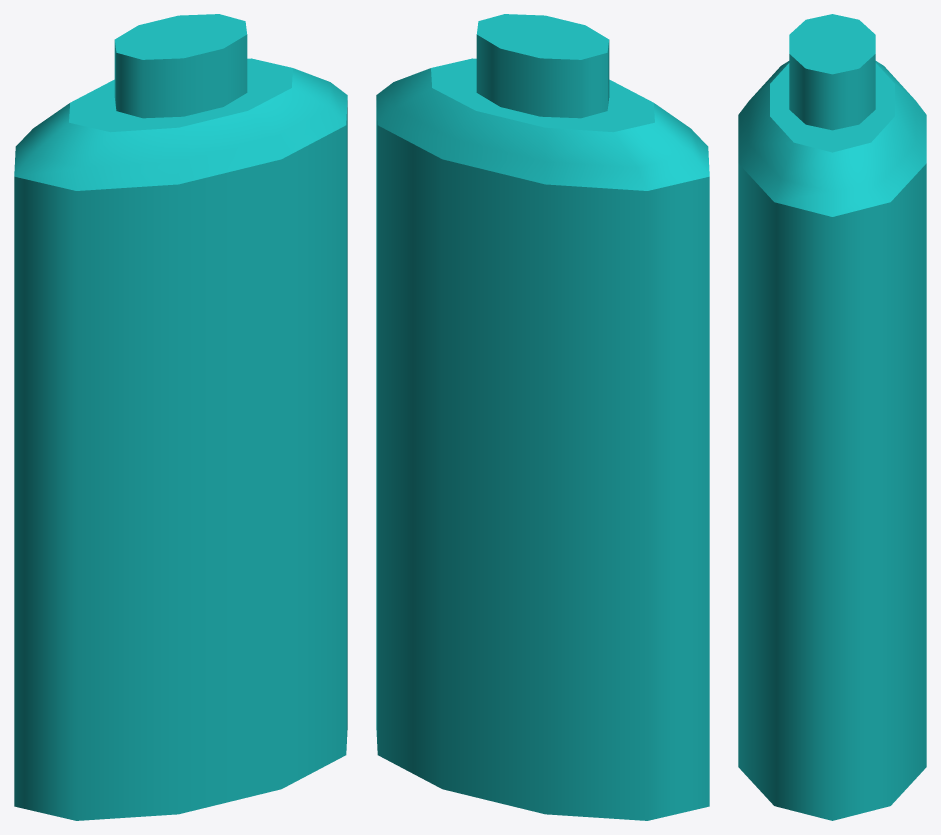
Rendered from Shampoo02.fbx.
The picture shows the model from 3 angles, left to right: view 1: azimuth 30°, elevation 25°; view 2: azimuth 150°, elevation 25°; view 3: azimuth 270°, elevation 25°; orthographic projection. The views are drawn at different scales.
Visible parts, largest first — view 1: Shampoo03; view 2: Shampoo03; view 3: Shampoo03.
Part boxes in pixels (x1,y1,x2,y2): Shampoo03: (14,14,347,820); Shampoo03: (376,14,709,820); Shampoo03: (738,14,926,820).
Size of the model in its own units: 0.0981 by 0.205 by 0.0501.
